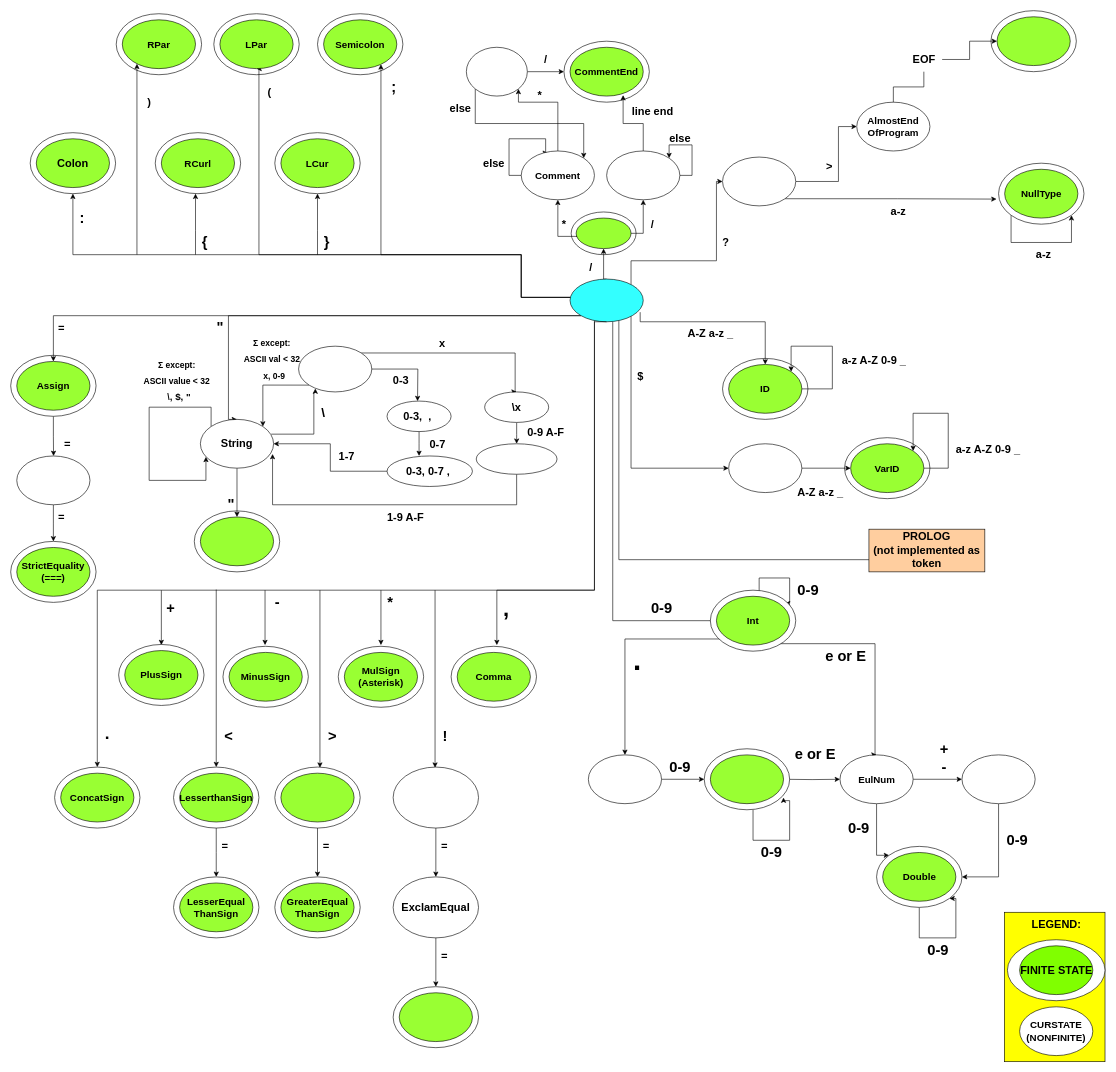
Some shapes in this 1116 by 1072 pixel diagram are drawn without their labels. Here are the shapes that lost their labels. From the top down, the centre of each, then its label:
At [1033,41]: "EndOfProgram".
At [496,71]: "Star Comment".
At [643,175]: "LineComment".
At [759,181]: "QuestionMark".
At [603,233]: "Slash".
At [606,300]: "START".
At [335,369]: "String Backslash".
At [516,458]: "\x,0-9 A-F,".
At [765,468]: "DollarSIgn".
At [53,480]: "DoubleEqual".
At [237,541]: "StringEnd".
At [317,797]: "GreaterthanSign".
At [436,797]: "ExclamMark".
At [625,779]: "DotDouble NoNum".
At [747,779]: "DotDouble".
At [998,779]: "EulNumExtra".
At [435,1017]: "NotEqual".
